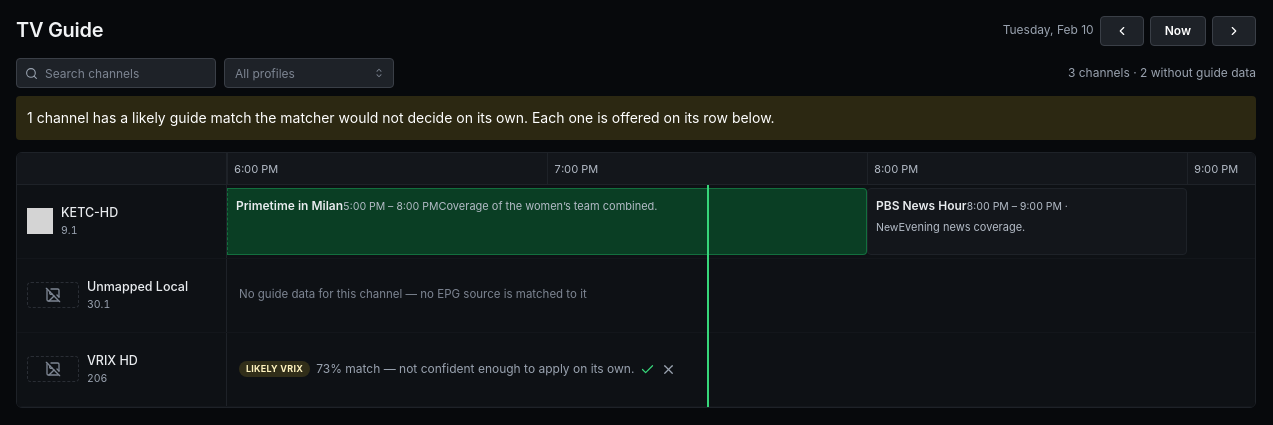
Test: rows › filters channels by name without refetching
The width and height of the screenshot is (1273, 425).
Expected: the text "KETC-HD" is shown, [61,203,118,222]
Type "vrix" into the field labelled "Search channels".
click(116, 73); type("vrix")  # box [16,58,216,88]
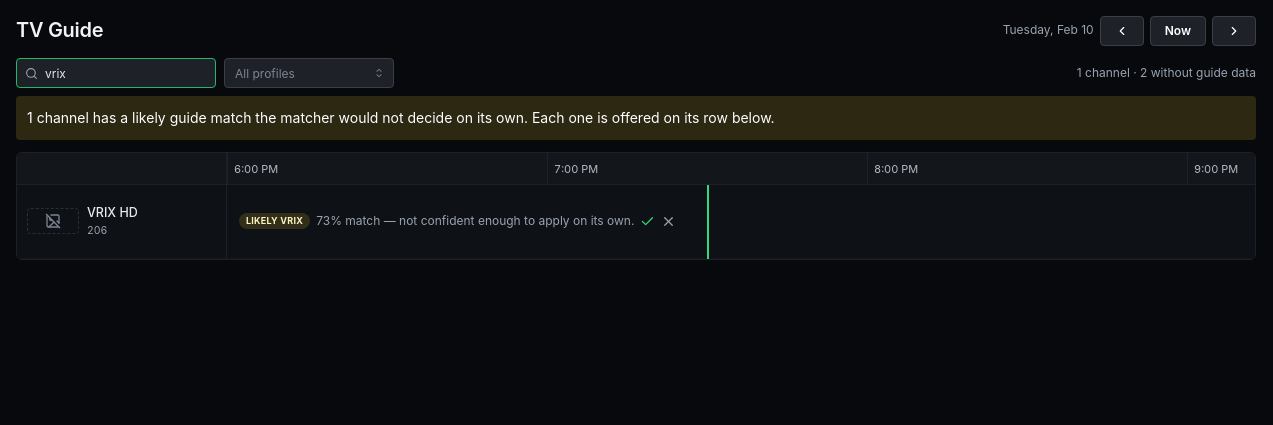
Expected: the text "VRIX HD" is shown, [87,203,138,222]
Now the text "KETC-HD" is gone
